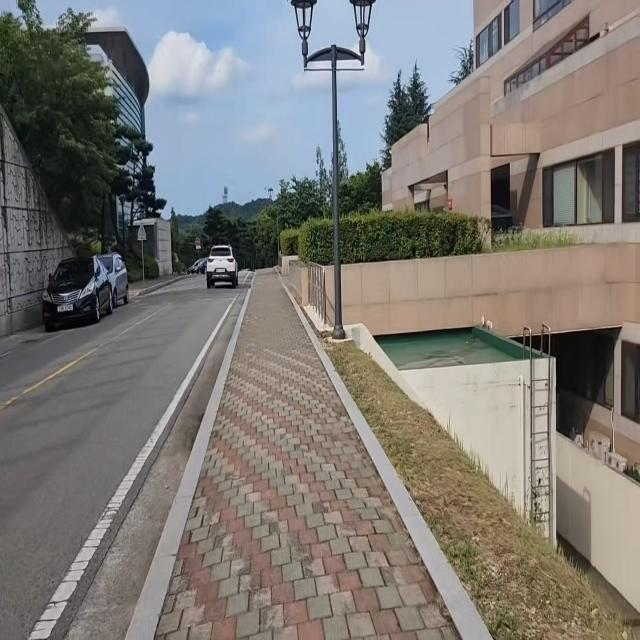obstacle: (280, 0, 376, 342), (37, 240, 136, 338), (201, 239, 241, 295)
road: (0, 293, 244, 640)
sidewalk: (123, 264, 500, 640)
